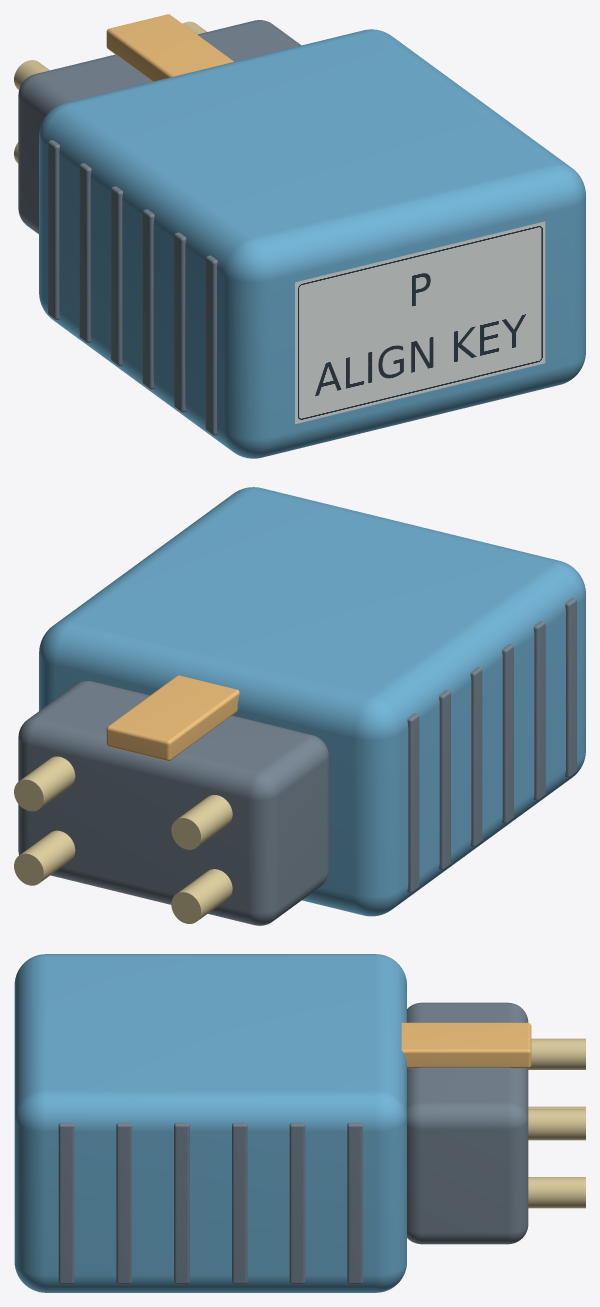
3 renders of one model, top to bottom at view 1: azimuth 30°, elevation 25°; view 2: azimuth 150°, elevation 25°; view 3: azimuth 270°, elevation 25°, orthographic. The views are drawn at different scales.
Parts seen in each view (by area): view 1: P/0000_grip, P/label_13, P/0007_keyed_nose, P/0008_top_key, P/0003_grip_rib, P/0001_grip_rib, P/0005_grip_rib, P/0002_grip_rib, P/0004_grip_rib, P/0006_grip_rib; view 2: P/0000_grip, P/0007_keyed_nose, P/0008_top_key, P/0004_grip_rib, P/0006_grip_rib, P/0002_grip_rib, P/0012_contact_pin, P/0003_grip_rib, P/0005_grip_rib, P/0011_contact_pin, P/0010_contact_pin, P/0009_contact_pin (+1 smaller); view 3: P/0000_grip, P/0007_keyed_nose, P/0008_top_key, P/0001_grip_rib, P/0005_grip_rib, P/0002_grip_rib, P/0004_grip_rib, P/0003_grip_rib, P/0006_grip_rib, P/0011_contact_pin, P/0012_contact_pin, P/0010_contact_pin.
Boxes of the visible parts, x1,y1,x2,y2 form: P/0000_grip: (39,29,585,458); P/label_13: (295,221,545,423); P/0007_keyed_nose: (18,20,301,233); P/0008_top_key: (106,14,233,81); P/0003_grip_rib: (142,209,154,389); P/0001_grip_rib: (205,255,217,435); P/0005_grip_rib: (79,163,91,342); P/0002_grip_rib: (174,232,186,412); P/0004_grip_rib: (111,186,122,365); P/0006_grip_rib: (48,140,59,319); P/0000_grip: (39,487,585,916); P/0007_keyed_nose: (18,681,328,925); P/0008_top_key: (106,675,239,761); P/0004_grip_rib: (470,667,482,846); P/0006_grip_rib: (407,713,419,892); P/0002_grip_rib: (533,620,545,800); P/0012_contact_pin: (14,756,75,811); P/0003_grip_rib: (502,644,513,823); P/0005_grip_rib: (439,690,450,869); P/0011_contact_pin: (14,830,75,885); P/0010_contact_pin: (171,795,232,849); P/0009_contact_pin: (171,869,232,923); P/0000_grip: (14,954,406,1292); P/0007_keyed_nose: (407,1002,528,1244); P/0008_top_key: (401,1022,531,1068); P/0001_grip_rib: (58,1122,74,1283); P/0005_grip_rib: (289,1122,305,1283); P/0002_grip_rib: (116,1122,131,1283); P/0004_grip_rib: (232,1122,247,1283); P/0003_grip_rib: (174,1122,189,1283); P/0006_grip_rib: (347,1122,362,1283); P/0011_contact_pin: (528,1177,585,1208); P/0012_contact_pin: (528,1109,585,1140); P/0010_contact_pin: (528,1038,585,1069).
Bounding box in the file's own units: 0.0734 × 0.042 × 0.109.
6 materials, 1 textured.
